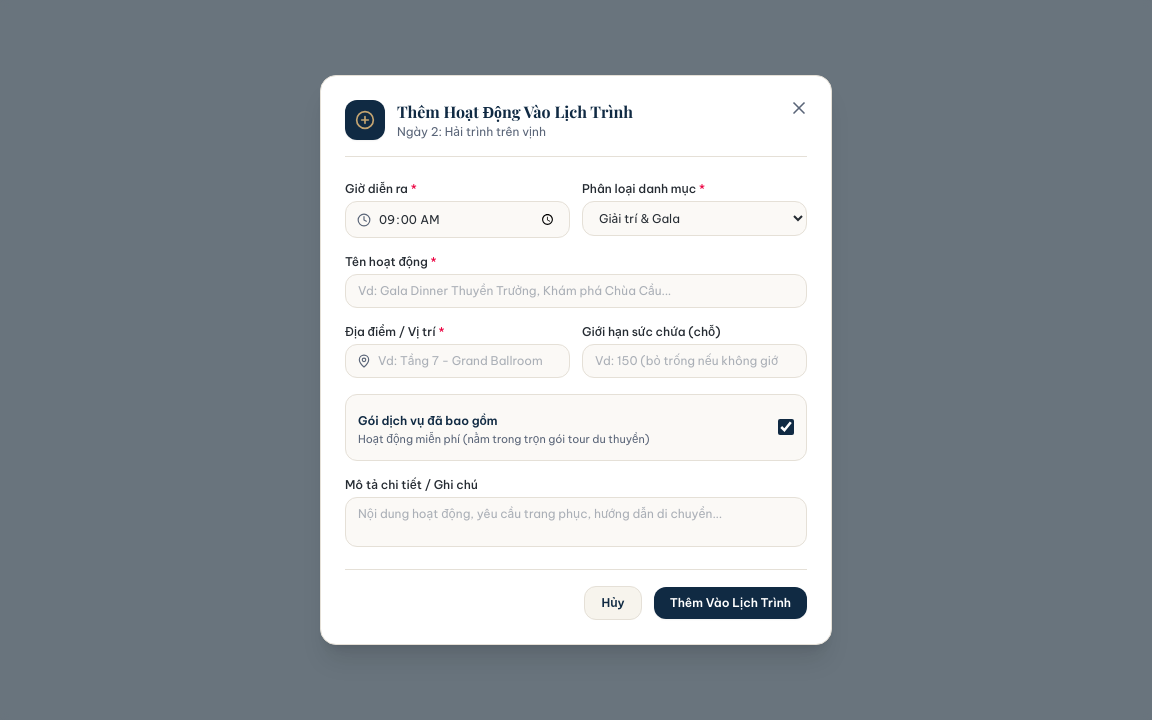
ActivityFormModal Component Tests (KAN-121) › renders correctly in Create mode with default fields and validates required inputs
Expected: the heading "Thêm Hoạt Động Vào Lịch Trình" is shown, [397,100,633,124]
Expected: the text "Ngày 2: Hải trình trên vịnh" is shown, [397,124,546,140]
Click the button "Thêm Vào Lịch Trình": point(730, 602) [654,586,807,618]
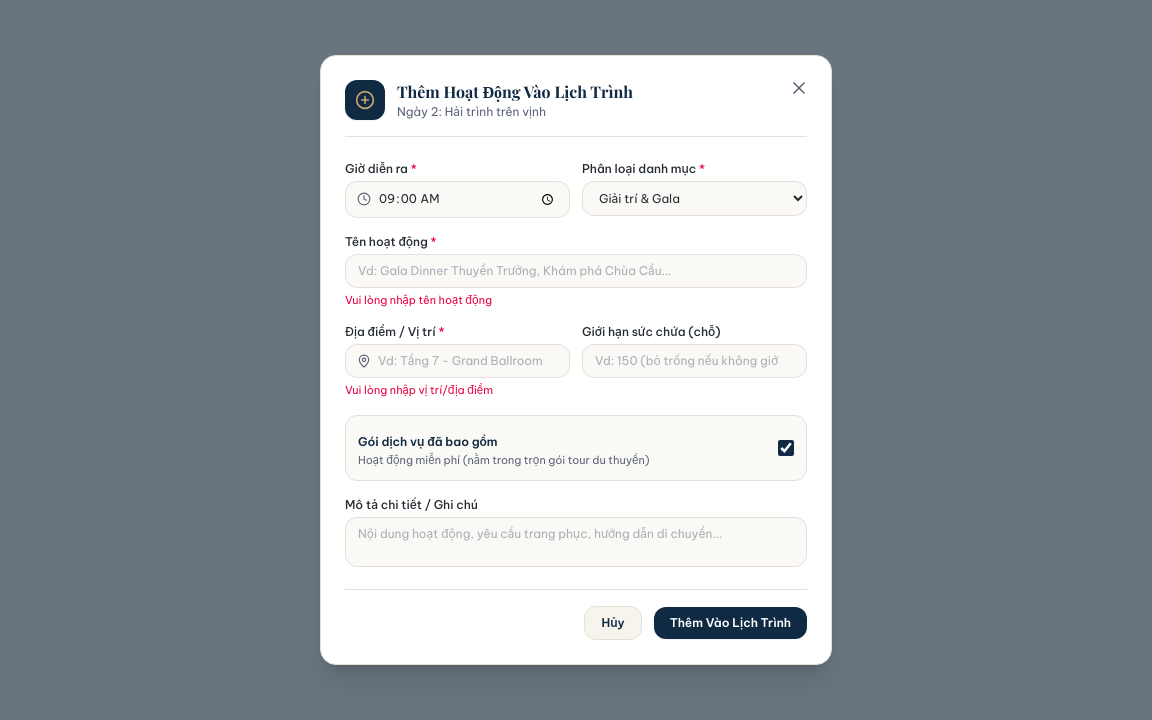
Expected: the text "Vui lòng nhập tên hoạt động" is shown, [345,292,492,306]
Expected: the text "Vui lòng nhập vị trí/địa điểm" is shown, [345,383,493,397]
